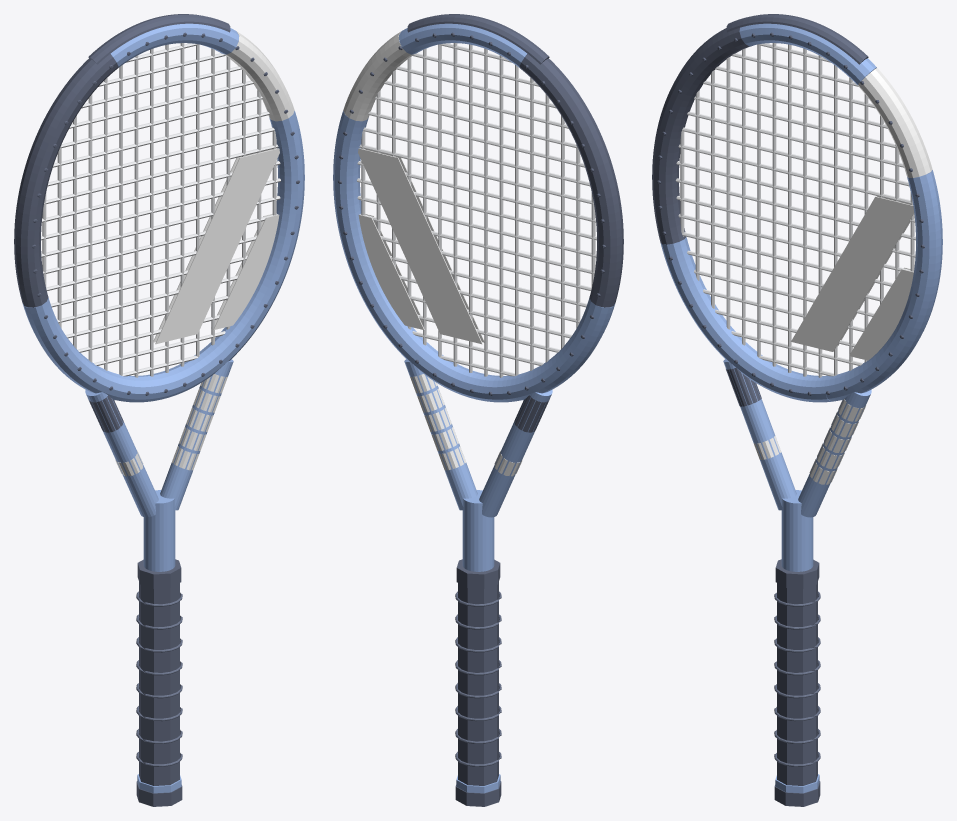
The model's file is yonex-ezone-98l.glb.
The picture shows the model from 3 angles, left to right: view 1: azimuth 30°, elevation 25°; view 2: azimuth 150°, elevation 25°; view 3: azimuth 330°, elevation 25°; orthographic projection.
Visible parts, largest first — view 1: strings, frame, stencil, frame_black, handle, frame_white, throat, shaft, wraps, collar, grommets, cap; view 2: strings, frame, stencil, frame_black, handle, frame_white, throat, shaft, wraps, collar, grommets, cap; view 3: strings, frame, stencil, frame_black, handle, frame_white, throat, shaft, wraps, collar, grommets, cap.
Part boxes in pixels (box(x1,y1,x2,y2)): strings: box(41, 43, 280, 377); frame: box(23, 23, 304, 402); stencil: box(153, 148, 279, 344); frame_black: box(14, 14, 230, 432); handle: box(139, 582, 179, 785); frame_white: box(115, 31, 294, 476); throat: box(85, 359, 233, 517); shaft: box(143, 490, 175, 571); wraps: box(136, 591, 182, 766); collar: box(137, 559, 181, 588); grommets: box(32, 32, 299, 395); cap: box(136, 781, 182, 806); strings: box(357, 43, 596, 377); frame: box(333, 23, 614, 402); stencil: box(358, 148, 484, 344); frame_black: box(407, 14, 623, 432); handle: box(458, 582, 498, 785); frame_white: box(343, 31, 522, 476); throat: box(404, 359, 552, 517); shaft: box(462, 490, 494, 571); wraps: box(455, 591, 501, 766); collar: box(456, 559, 500, 588); grommets: box(338, 32, 605, 395); cap: box(455, 781, 501, 806); strings: box(675, 43, 915, 377); frame: box(660, 23, 942, 402); stencil: box(791, 196, 914, 360); frame_black: box(652, 14, 868, 406); handle: box(777, 582, 817, 785); frame_white: box(753, 68, 932, 484); throat: box(723, 359, 871, 517); shaft: box(781, 490, 813, 571); wraps: box(774, 591, 820, 766); collar: box(775, 559, 819, 588); grommets: box(657, 32, 924, 395); cap: box(774, 781, 820, 806).
Size of the model in its own units: 0.272 by 0.7055 by 0.039.
